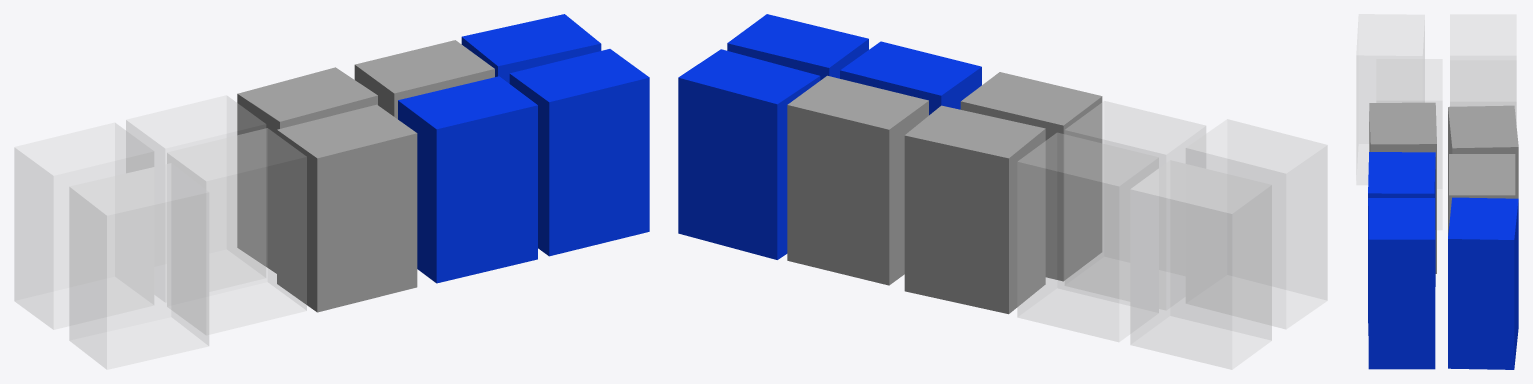
Rendered from Rice_rewt3q_Pack01.fbx.
3 renders of one model, left to right at view 1: azimuth 30°, elevation 25°; view 2: azimuth 150°, elevation 25°; view 3: azimuth 270°, elevation 25°, orthographic. The views are drawn at different scales.
Parts seen in each view (by area): view 1: Rice_rewt3q_Pack01; view 2: Rice_rewt3q_Pack01; view 3: Rice_rewt3q_Pack01.
Part boxes in pixels (left/top/right/bottom): Rice_rewt3q_Pack01: left=14, top=14, right=649, bottom=369; Rice_rewt3q_Pack01: left=678, top=14, right=1327, bottom=369; Rice_rewt3q_Pack01: left=1356, top=14, right=1518, bottom=369.
Bounding box in the file's own units: 72.09 × 19.31 × 21.9.
